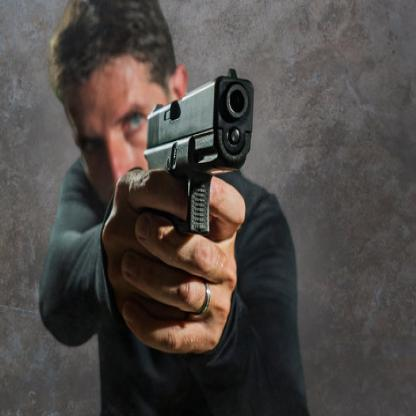handgun: (104, 69, 256, 312)
